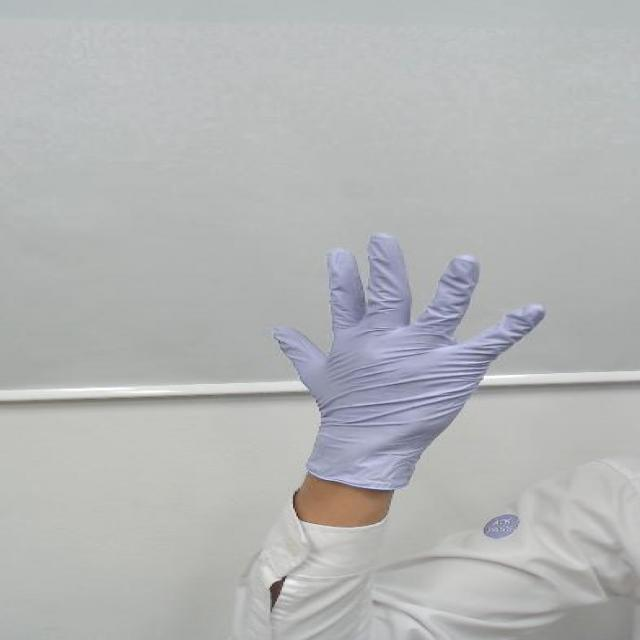Glove: (248, 233, 552, 474)
